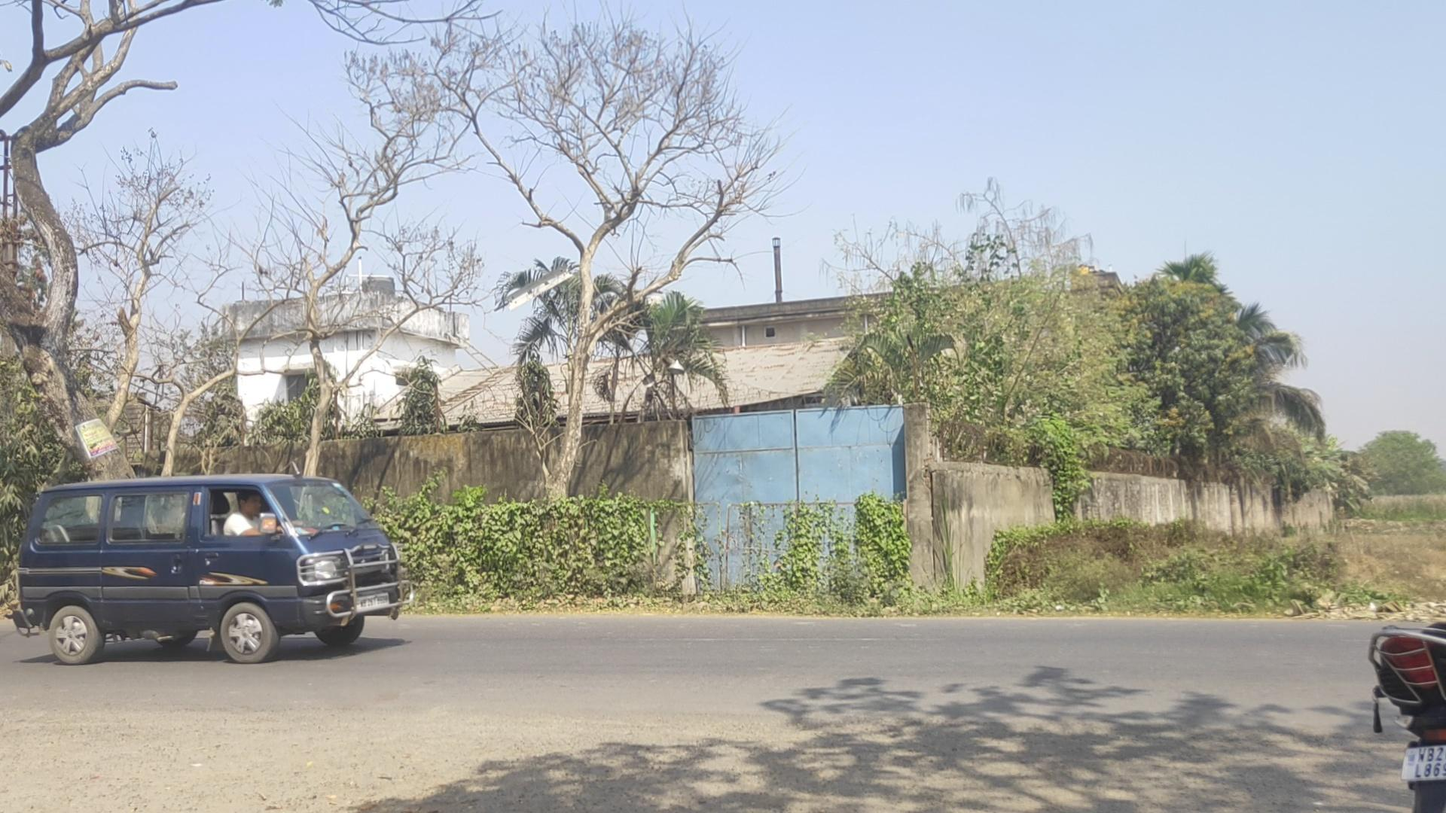van: (10, 472, 413, 665)
